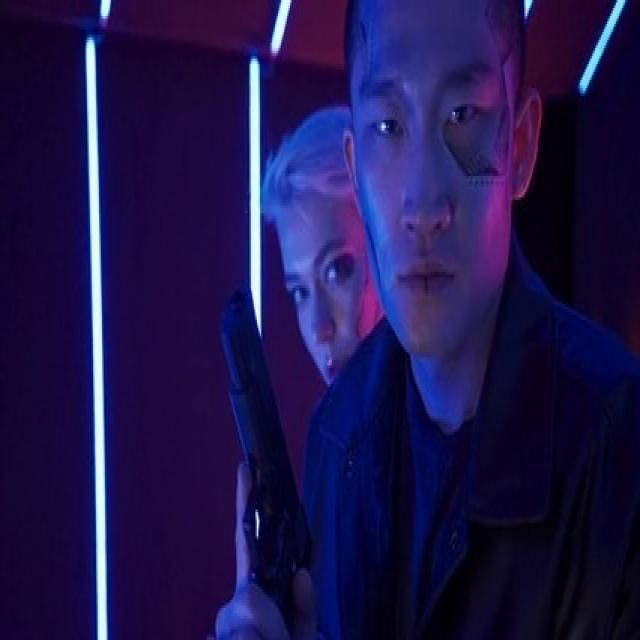Gun_Holder: (198, 284, 350, 640)
Jacket_Wearer: (297, 282, 639, 640)
Person: (296, 0, 640, 640), (259, 103, 399, 640)
